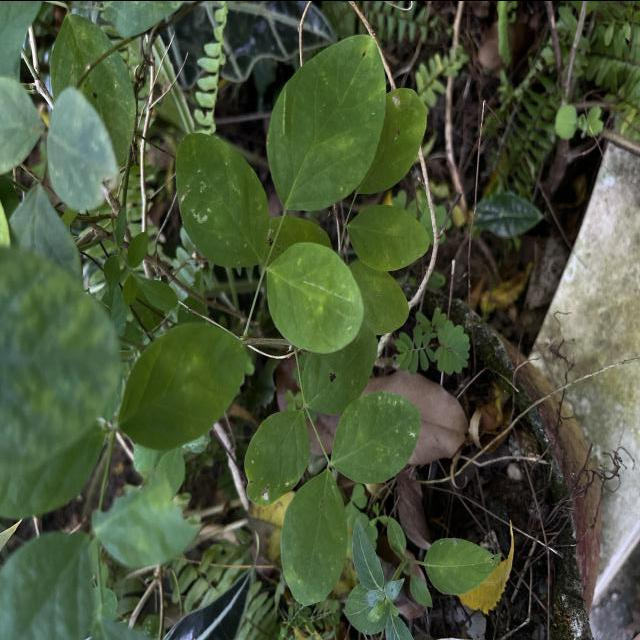Clitoria ternatea: (264, 34, 388, 212), (174, 131, 272, 269), (265, 240, 366, 354), (280, 469, 348, 607), (330, 390, 422, 484), (243, 408, 311, 507)
